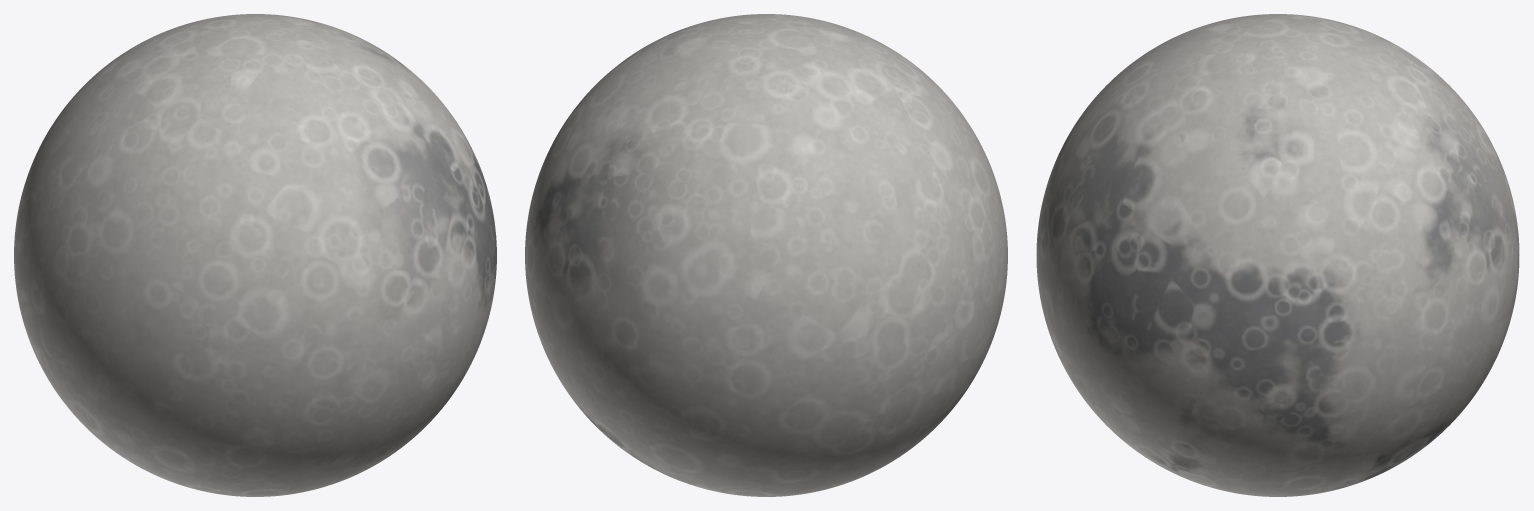
Rendered from moon.glb.
3 renders of one model, left to right at view 1: azimuth 30°, elevation 25°; view 2: azimuth 150°, elevation 25°; view 3: azimuth 270°, elevation 25°, orthographic.
Parts seen in each view (by area): view 1: Moon; view 2: Moon; view 3: Moon.
Boxes of the visible parts, x1=… form: Moon: x1=14, y1=14, x2=496, y2=496; Moon: x1=525, y1=14, x2=1007, y2=496; Moon: x1=1036, y1=14, x2=1519, y2=496.
Size of the model in its own units: 0.5454 by 0.5454 by 0.5454.
1 material, 1 textured.
